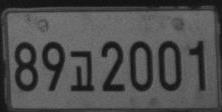0: (157, 40, 182, 92), (129, 40, 153, 91)
1: (186, 40, 210, 90)
2: (100, 40, 125, 91)
8: (13, 41, 38, 91)
9: (40, 40, 66, 92)
고: (69, 50, 95, 91)
